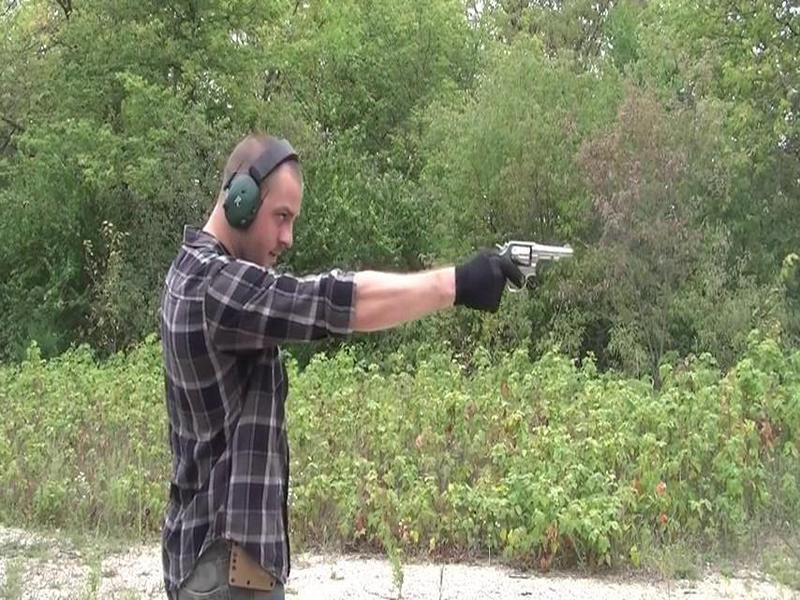Revolver: (468, 235, 598, 318)
